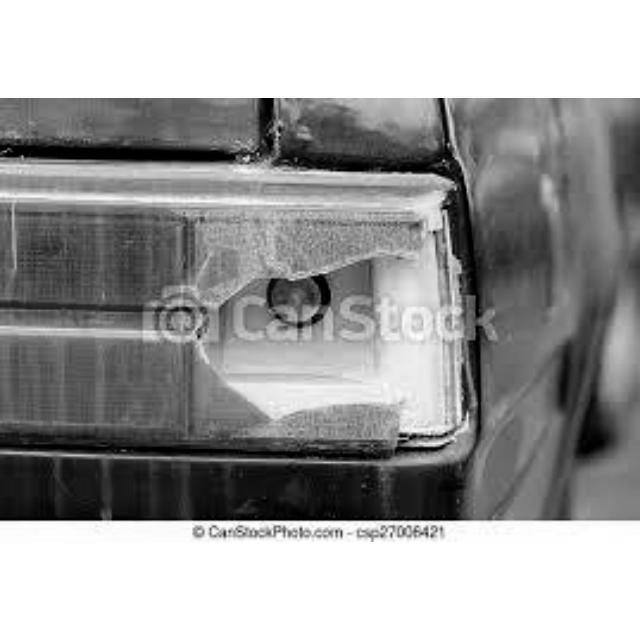Taillight-Damage: (3, 125, 497, 474)
